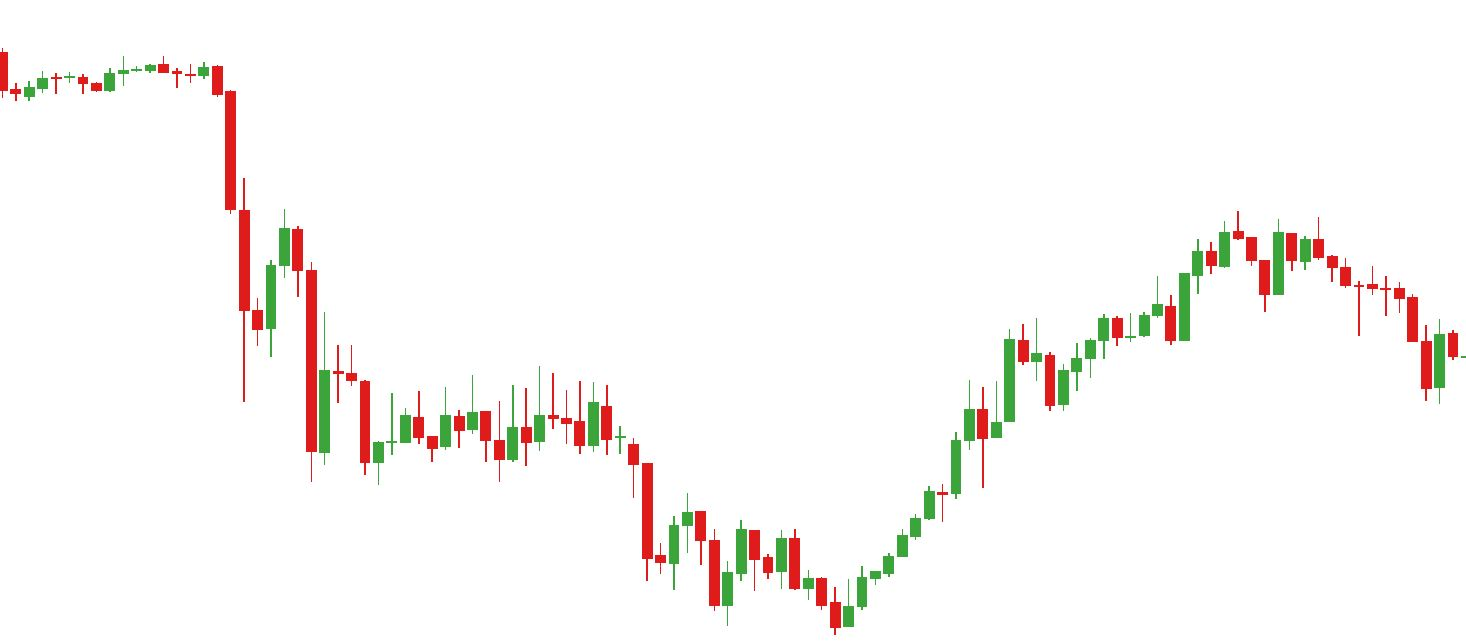buy: (720, 536, 857, 638)
